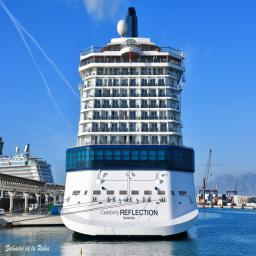cruises: (63, 7, 203, 241)
